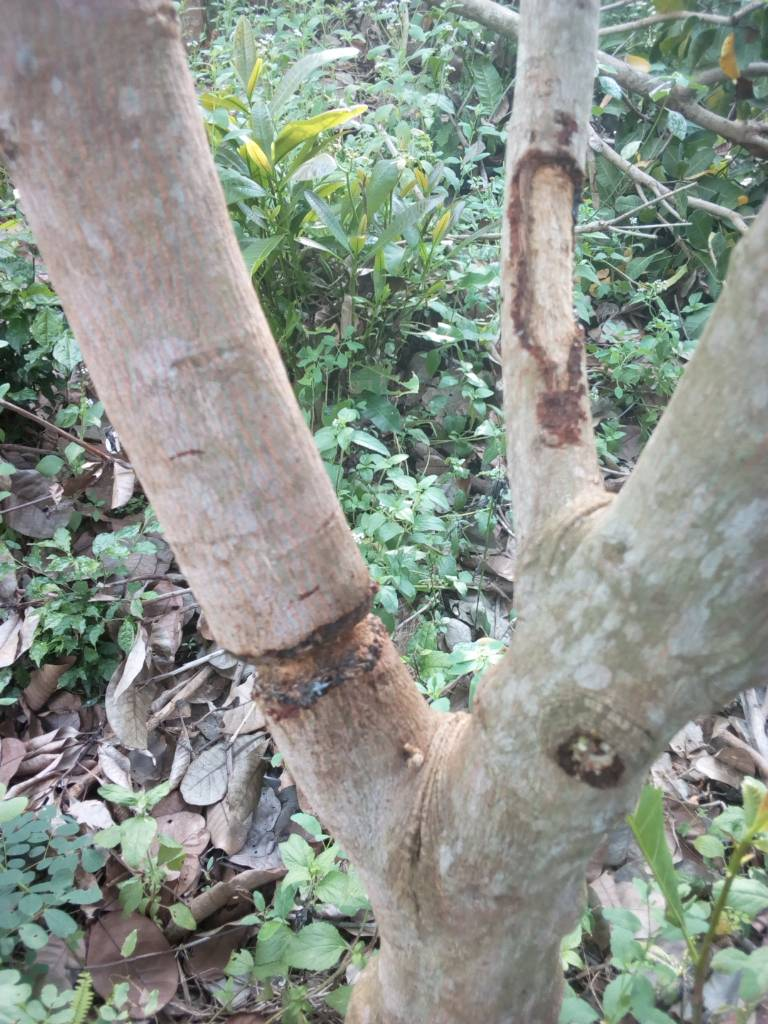Analepse trifasciata: (196, 578, 454, 721)
